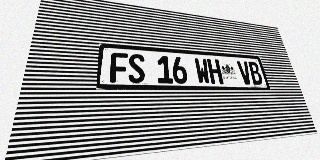1: (156, 55, 173, 83)
6: (171, 56, 188, 84)
B: (247, 61, 264, 85)
F: (110, 52, 128, 83)
H: (207, 59, 224, 84)
S: (128, 53, 145, 83)
V: (236, 61, 253, 85)
W: (194, 58, 211, 84)
